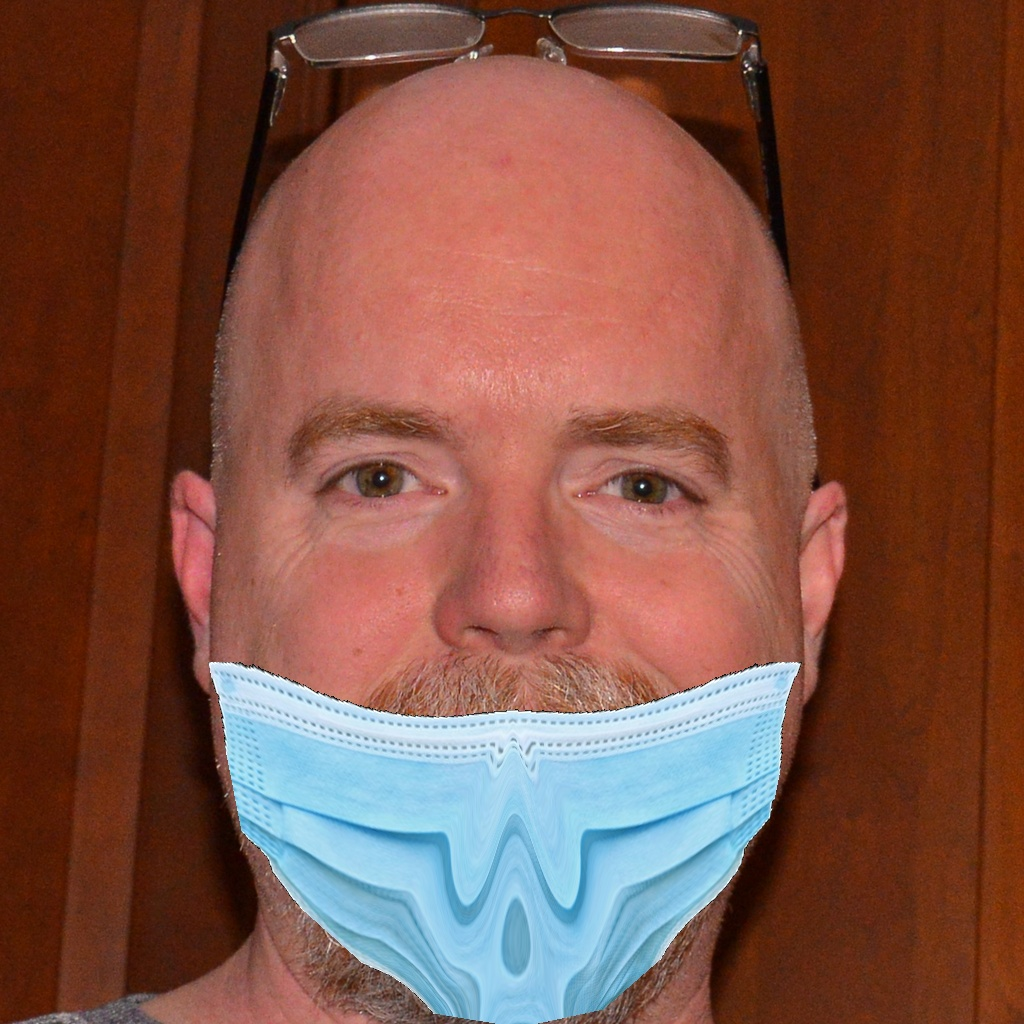mascarilla_mal_puesta: (214, 400, 849, 1024)
